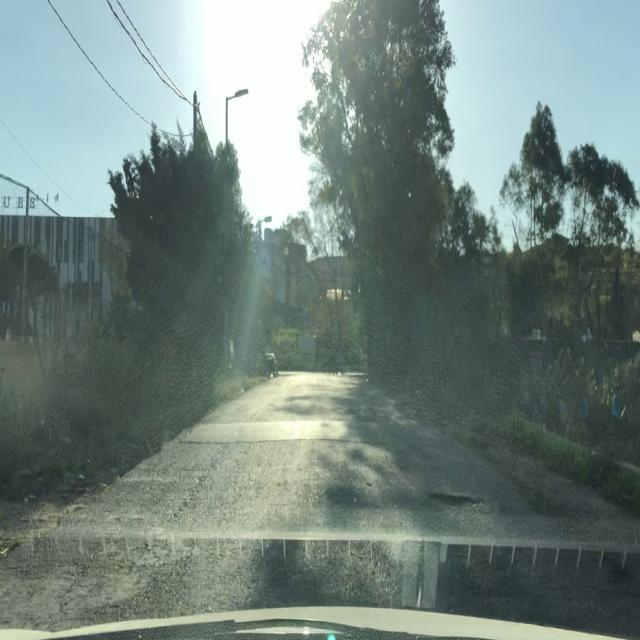Buraco: (425, 491, 488, 510)
